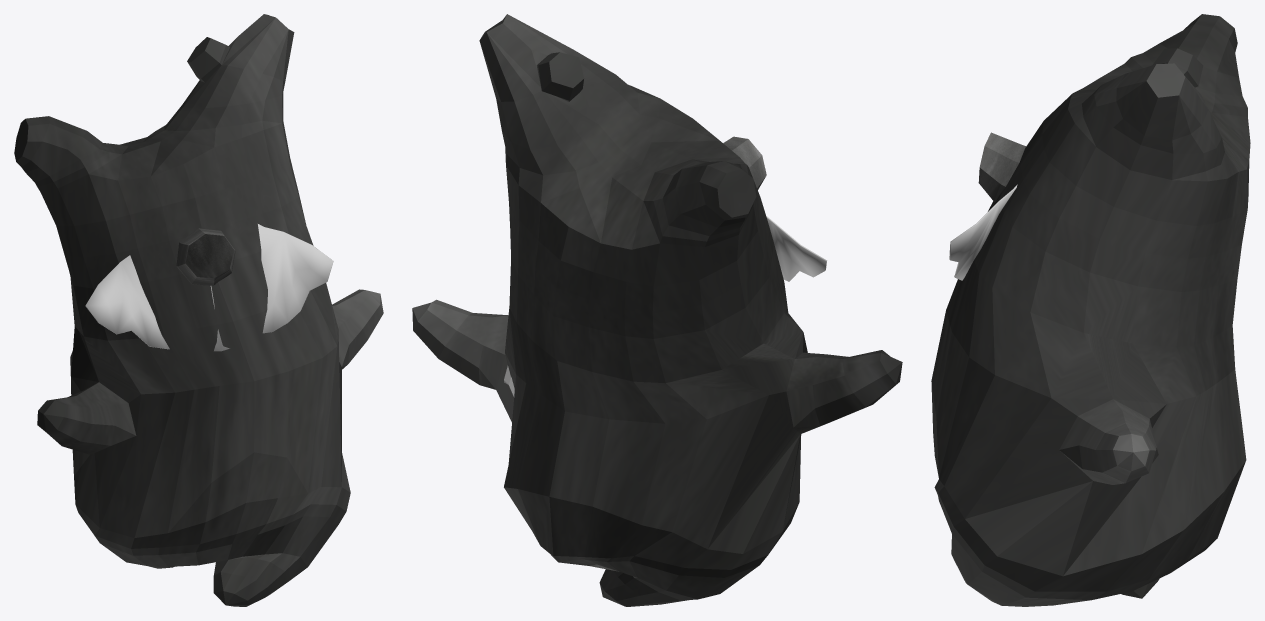
The model's file is frame_0002.obj.
3 renders of one model, left to right at view 1: azimuth 30°, elevation 25°; view 2: azimuth 150°, elevation 25°; view 3: azimuth 270°, elevation 25°, orthographic. The views are drawn at different scales.
Visible parts, largest first — view 1: korok, leaf, nose; view 2: korok, leaf, nose; view 3: korok, nose, leaf.
Part boxes in pixels (<box>): korok: <box>14,14,383,606</box>; leaf: <box>85,224,333,351</box>; nose: <box>176,228,235,285</box>; korok: <box>412,14,902,606</box>; leaf: <box>766,215,827,281</box>; nose: <box>723,136,766,189</box>; korok: <box>931,14,1250,606</box>; nose: <box>978,132,1025,201</box>; leaf: <box>949,184,1017,280</box>.
Size of the model in its own units: 1.79 by 2.25 by 1.11.
